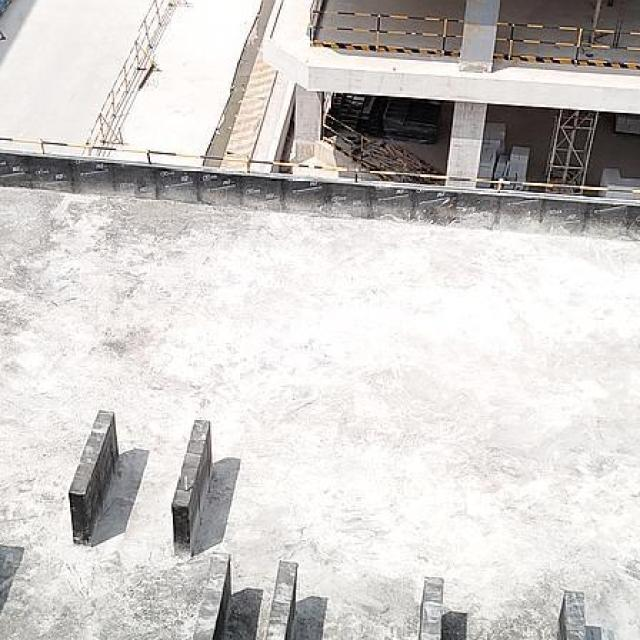edge_guardrail: (0, 137, 640, 193), (309, 0, 464, 57), (493, 21, 640, 68), (322, 113, 372, 161)
